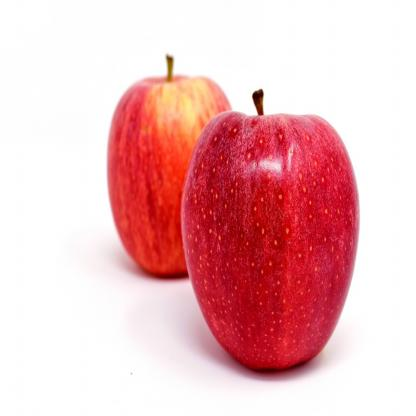apple: (175, 112, 359, 386), (102, 74, 243, 286)
